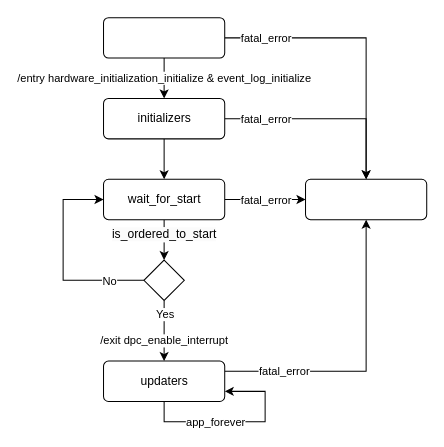
Some shapes in this 444 by 447 pixel diagram are drawn without their labels. The shapes that lost their labels are listed below. From the top down, each one's box as (x1, y1, x2, y2) in pixels, then its label:
(103, 17, 225, 58): boot_check
(305, 178, 427, 220): fatal_error handler
